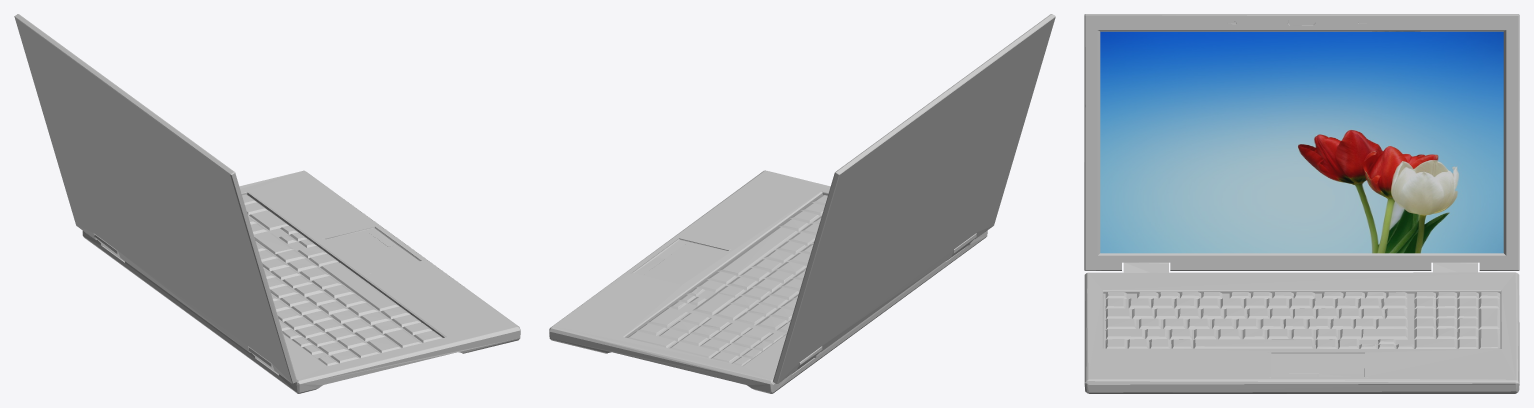
The model's file is Laptop.FBX.
The picture shows the model from 3 angles, left to right: view 1: azimuth 30°, elevation 25°; view 2: azimuth 150°, elevation 25°; view 3: azimuth 270°, elevation 25°; orthographic projection.
Parts seen in each view (by area): view 1: Laptop; view 2: Laptop; view 3: Laptop.
Boxes of the visible parts, x1=… form: Laptop: x1=14, y1=14, x2=520, y2=393; Laptop: x1=549, y1=14, x2=1055, y2=393; Laptop: x1=1084, y1=14, x2=1519, y2=393.
Size of the model in its own units: 391 by 503 by 306.
